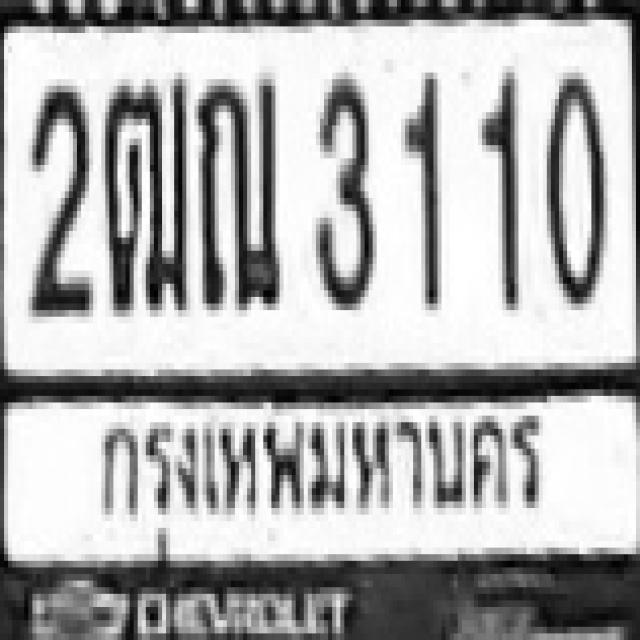0: (542, 66, 604, 297)
1: (478, 66, 514, 303), (401, 69, 437, 300)
2: (26, 79, 87, 310)
3: (312, 72, 373, 304)
A18: (101, 73, 182, 310)
A19: (194, 72, 276, 304)
BKK: (74, 398, 552, 544)
